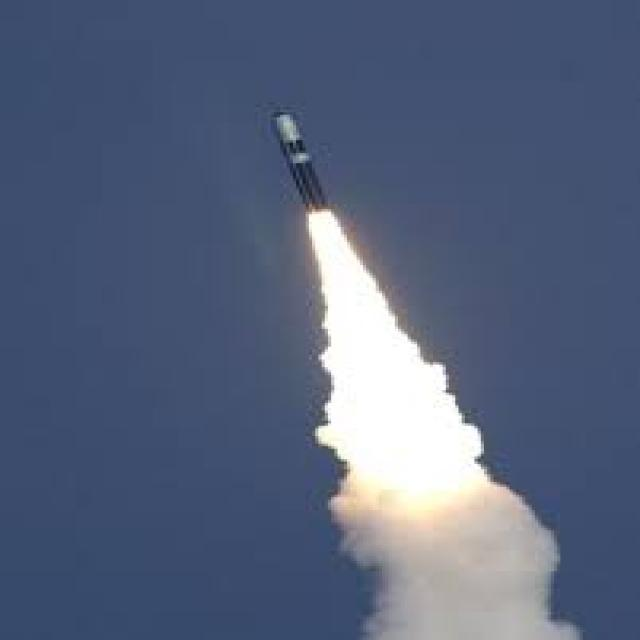missile: (268, 106, 336, 217)
